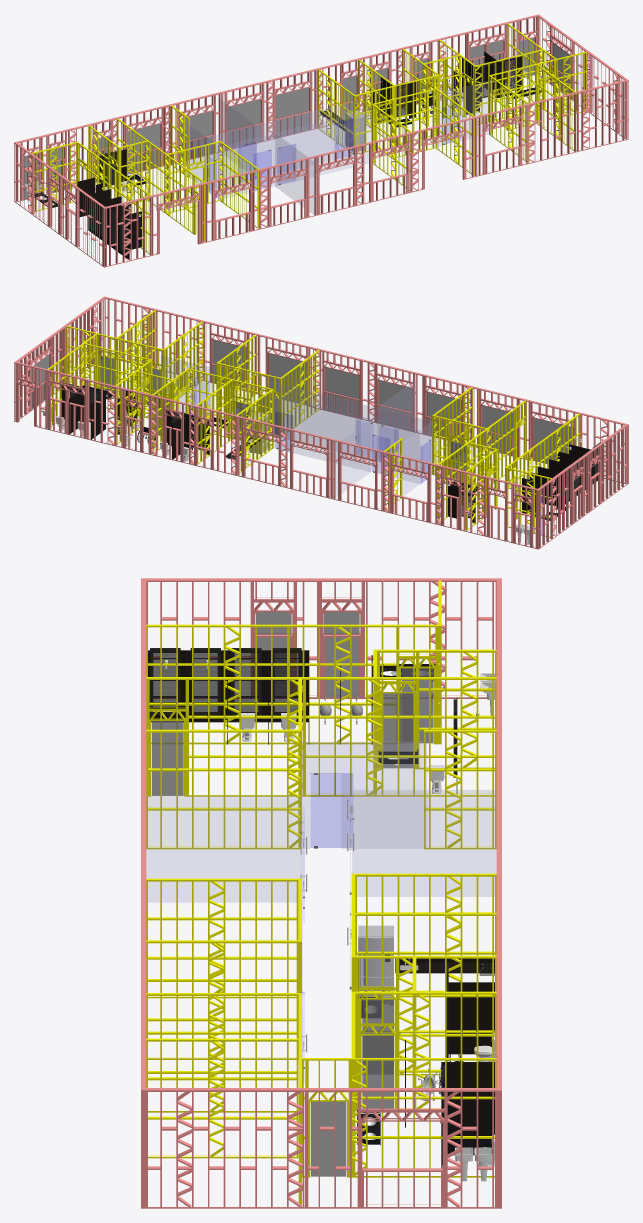
The model's file is paineis-pv1.glb.
The picture shows the model from 3 angles, top to bottom: view 1: azimuth 30°, elevation 25°; view 2: azimuth 150°, elevation 25°; view 3: azimuth 270°, elevation 25°; orthographic projection. The views are drawn at different scales.
Visible parts, largest first — view 1: Wall Paredes <330535 Parede de Vidro<, FamilyInstance Modelos genéricos PV1 - 40 <318466 PV1 - 40<, Wall Paredes <330827 Parede de Vidro<, FamilyInstance Modelos genéricos PV1 - 35 <318194 PV1 - 35<, FamilyInstance Modelos genéricos PV1 - 28 <317832 PV1 - 28<, FamilyInstance Modelos genéricos PV1 - 4 <307102 PV1 - 4<, FamilyInstance Modelos genéricos PV1 - 74 <311464 PV1 - 74<, FamilyInstance Portas Porta de vidro (Abrir) - Modelo 1 <330 (×4), FamilyInstance Modelos genéricos PV1 - 89 <306050 PV1 - 89<, FamilyInstance Modelos genéricos PV1 - 1 <308106 PV1 - 1<, FamilyInstance Modelos genéricos PV1 - 99 <309217 PV1 - 99<, FamilyInstance Modelos genéricos PV1 - 76 <311021 PV1 - 76< (+58 smaller); view 2: Wall Paredes <330827 Parede de Vidro<, Wall Paredes <330535 Parede de Vidro<, FamilyInstance Modelos genéricos PV1 - 39 <316782 PV1 - 39<, FamilyInstance Modelos genéricos PV1 - 49 <304524 PV1 - 49<, FamilyInstance Modelos genéricos PV1 - 44 <309924 PV1 - 44<, FamilyInstance Modelos genéricos PV1 - 4 <307102 PV1 - 4<, FamilyInstance Modelos genéricos PV1 - 2 <306776 PV1 - 2<, FamilyInstance Modelos genéricos PV1 - 23 <303333 PV1 - 23<, FamilyInstance Modelos genéricos PV1 - 40 <318466 PV1 - 40<, FamilyInstance Modelos genéricos PV1 - 100 <320692 PV1 - 100, FamilyInstance Modelos genéricos PV1 - 76 <311021 PV1 - 76<, FamilyInstance Modelos genéricos PV1 - 64 <317144 PV1 - 64< (+67 smaller); view 3: Wall Paredes <330536 Parede de Vidro<, Wall Paredes <330830 Parede de Vidro<, Wall Paredes <330828 Parede de Vidro<, FamilyInstance Modelos genéricos PV1 - 92 <305603 PV1 - 92<, FamilyInstance Portas Porta de alumínio (Abrir) - Modelo 1 < (×4), FamilyInstance Modelos genéricos PV1 - 4 <307102 PV1 - 4<, FamilyInstance Modelos genéricos PV1 - 99 <309217 PV1 - 99<, FamilyInstance Modelos genéricos PV1 - 100 <320692 PV1 - 100, FamilyInstance Modelos genéricos PV1 - 24 <320072 PV1 - 24<, FamilyInstance Modelos genéricos PV1 - 77 <313061 PV1 - 77<, FamilyInstance Modelos genéricos PV1 - 27 <312226 PV1 - 27<, FamilyInstance Modelos genéricos PV1 - 33 <305297 PV1 - 33< (+23 smaller).
Part boxes in pixels (x1,y1,x2,y2): Wall Paredes <330535 Parede de Vidro<: (220, 110, 371, 198); FamilyInstance Modelos genéricos PV1 - 40 <318466 PV1 - 40<: (221, 68, 317, 150); Wall Paredes <330827 Parede de Vidro<: (208, 102, 353, 189); FamilyInstance Modelos genéricos PV1 - 35 <318194 PV1 - 35<: (169, 92, 222, 163); FamilyInstance Modelos genéricos PV1 - 28 <317832 PV1 - 28<: (117, 104, 170, 173); FamilyInstance Modelos genéricos PV1 - 4 <307102 PV1 - 4<: (14, 142, 62, 234); FamilyInstance Modelos genéricos PV1 - 74 <311464 PV1 - 74<: (526, 92, 578, 163); FamilyInstance Portas Porta de vidro (Abrir) - Modelo 1 <330 (×4): (238, 118, 352, 189); FamilyInstance Modelos genéricos PV1 - 89 <306050 PV1 - 89<: (577, 79, 628, 151); FamilyInstance Modelos genéricos PV1 - 1 <308106 PV1 - 1<: (103, 196, 151, 267); FamilyInstance Modelos genéricos PV1 - 99 <309217 PV1 - 99<: (585, 50, 627, 138); FamilyInstance Modelos genéricos PV1 - 76 <311021 PV1 - 76<: (437, 22, 508, 98); Wall Paredes <330827 Parede de Vidro<: (273, 395, 419, 483); Wall Paredes <330535 Parede de Vidro<: (280, 385, 431, 471); FamilyInstance Modelos genéricos PV1 - 39 <316782 PV1 - 39<: (368, 361, 424, 434); FamilyInstance Modelos genéricos PV1 - 49 <304524 PV1 - 49<: (255, 333, 321, 408); FamilyInstance Modelos genéricos PV1 - 44 <309924 PV1 - 44<: (320, 349, 369, 420); FamilyInstance Modelos genéricos PV1 - 4 <307102 PV1 - 4<: (536, 456, 584, 549); FamilyInstance Modelos genéricos PV1 - 2 <306776 PV1 - 2<: (582, 425, 627, 515); FamilyInstance Modelos genéricos PV1 - 23 <303333 PV1 - 23<: (471, 386, 530, 459); FamilyInstance Modelos genéricos PV1 - 40 <318466 PV1 - 40<: (236, 415, 332, 498); FamilyInstance Modelos genéricos PV1 - 100 <320692 PV1 - 100: (15, 327, 65, 419); FamilyInstance Modelos genéricos PV1 - 76 <311021 PV1 - 76<: (46, 369, 116, 445); FamilyInstance Modelos genéricos PV1 - 64 <317144 PV1 - 64<: (204, 321, 256, 392); Wall Paredes <330536 Parede de Vidro<: (146, 795, 301, 902); Wall Paredes <330830 Parede de Vidro<: (353, 790, 496, 896); Wall Paredes <330828 Parede de Vidro<: (302, 742, 426, 848); FamilyInstance Modelos genéricos PV1 - 92 <305603 PV1 - 92<: (302, 1058, 496, 1177); FamilyInstance Portas Porta de alumínio (Abrir) - Modelo 1 < (×4): (150, 648, 301, 715); FamilyInstance Modelos genéricos PV1 - 4 <307102 PV1 - 4<: (318, 578, 501, 698); FamilyInstance Modelos genéricos PV1 - 99 <309217 PV1 - 99<: (146, 1088, 306, 1208); FamilyInstance Modelos genéricos PV1 - 100 <320692 PV1 - 100: (306, 1088, 496, 1208); FamilyInstance Modelos genéricos PV1 - 24 <320072 PV1 - 24<: (146, 677, 304, 796); FamilyInstance Modelos genéricos PV1 - 77 <313061 PV1 - 77<: (355, 991, 496, 1111); FamilyInstance Modelos genéricos PV1 - 27 <312226 PV1 - 27<: (304, 677, 496, 796); FamilyInstance Modelos genéricos PV1 - 33 <305297 PV1 - 33<: (146, 729, 301, 849).
Size of the model in its own units: 30.67 by 3.3 by 9.14.
